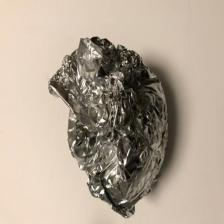metal: (41, 26, 186, 221)
